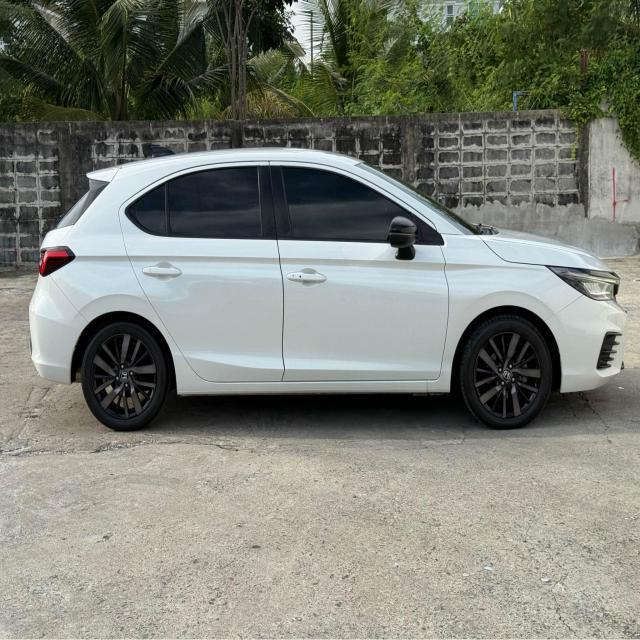Hatchback: (28, 147, 628, 433)
